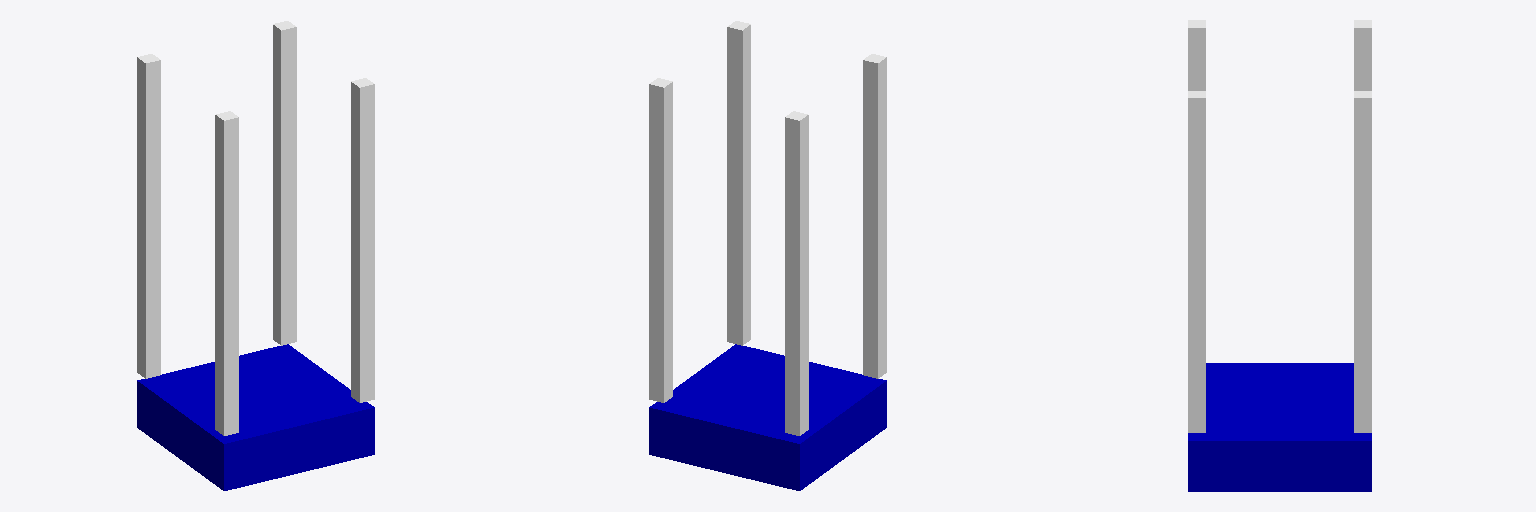
robot.urdf — physics:
<?xml version="1.0"?>
<robot name="physics">

  

  <link name="cart">
    <visual>
      <geometry>
        <box size="0.1 0.1 0.03"/>
      </geometry>
      <origin xyz="0 0 0"/>
      <material name="blue">
        <color rgba="0 0 .8 1"/>
      </material>
    </visual>
    <collision>
      <geometry>
          <box size="0.1 0.1 0.03"/>
      </geometry>
      <origin xyz="0 0 0"/>
    </collision>
    <inertial>
      <mass value="1000"/>
      <inertia ixx="1.0" ixy="0.0" ixz="0.0" iyy="1.0" iyz="0.0" izz="1.0"/>
    </inertial>
  </link>


  <link name="pole">
    <visual>
      <geometry>
        <box size="0.01 0.01 0.2"/>	
      </geometry>
      <origin rpy="0 0 0" xyz="0 0 0.1"/>
      <material name="white">
        <color rgba="1 1 1 1"/>
      </material>
    </visual>
    <inertial>
    <origin xyz="0 0 0.1"/>
      <mass value="1"/>
      <inertia ixx="1.0" ixy="0.0" ixz="0.0" iyy="1.0" iyz="0.0" izz="1.0"/>
    </inertial>
     <collision>
      <geometry>
        <box size="0.01 0.01 0.2"/>	
      </geometry>
      <origin rpy="0 0 0" xyz="0 0 0.1"/>
    </collision>
  </link>

  <link name="pole2">
    <visual>
      <geometry>
        <box size="0.01 0.01 0.2"/>	
      </geometry>
      <origin rpy="0 0 0" xyz="0 0 0.1"/>
      <material name="white">
        <color rgba="1 1 1 1"/>
      </material>
    </visual>
    <inertial>
    <origin xyz="0 0 0.1"/>
      <mass value="1"/>
      <inertia ixx="1.0" ixy="0.0" ixz="0.0" iyy="1.0" iyz="0.0" izz="1.0"/>
    </inertial>
     <collision>
      <geometry>
        <box size="0.01 0.01 0.2"/>	
      </geometry>
      <origin rpy="0 0 0" xyz="0 0 0.1"/>
    </collision>
  </link>


  <link name="pole3">
    <visual>
      <geometry>
        <box size="0.01 0.01 0.2"/>	
      </geometry>
      <origin rpy="0 0 0" xyz="0 0 0.1"/>
      <material name="white">
        <color rgba="1 1 1 1"/>
      </material>
    </visual>
    <inertial>
    <origin xyz="0 0 0.1"/>
      <mass value="1"/>
      <inertia ixx="1.0" ixy="0.0" ixz="0.0" iyy="1.0" iyz="0.0" izz="1.0"/>
    </inertial>
     <collision>
      <geometry>
        <box size="0.01 0.01 0.2"/>	
      </geometry>
      <origin rpy="0 0 0" xyz="0 0 0.1"/>
    </collision>
  </link>

  <link name="pole4">
    <visual>
      <geometry>
        <box size="0.01 0.01 0.2"/>	
      </geometry>
      <origin rpy="0 0 0" xyz="0 0 0.1"/>
      <material name="white">
        <color rgba="1 1 1 1"/>
      </material>
    </visual>
    <inertial>
    <origin xyz="0 0 0.1"/>
      <mass value="1"/>
      <inertia ixx="1.0" ixy="0.0" ixz="0.0" iyy="1.0" iyz="0.0" izz="1.0"/>
    </inertial>
     <collision>
      <geometry>
        <box size="0.01 0.01 0.2"/>	
      </geometry>
      <origin rpy="0 0 0" xyz="0 0 0.1"/>
    </collision>
  </link>



  <joint name="cart_to_pole" type="revolute">
    <axis xyz="0 1 0"/>
    <origin xyz="0.045 0.045 0.02"/>
    <parent link="cart"/>
    <child link="pole"/>
    <limit upper="0.2" lower="-0.1757" velocity="2.0"/>
  </joint>

  <joint name="cart_to_pole2" type="revolute">
    <axis xyz="0 1 0"/>
    <origin xyz="-0.045 -0.045 0.02"/>
    <parent link="cart"/>
    <child link="pole2"/>
    <limit upper="0.2" lower="-0.1757" velocity="2.0"/>
  </joint>

  <joint name="cart_to_pole3" type="revolute">
    <axis xyz="0 1 0"/>
    <origin xyz="0.045 -0.045 0.02"/>
    <parent link="cart"/>
    <child link="pole3"/>
    <limit upper="0.2" lower="-0.1757" velocity="2.0"/>
  </joint>

  <joint name="cart_to_pole4" type="revolute">
    <axis xyz="0 1 0"/>
    <origin xyz="-0.045 0.045 0.02"/>
    <parent link="cart"/>
    <child link="pole4"/>
    <limit upper="0.2" lower="-0.1757" velocity="2.0"/>
  </joint>
  
</robot>

--- What the picture shows (computed from the rendered views, not written in the file) ---
Views: 3 orthographic renders of the robot side by side, from view 1: azimuth 30°, elevation 25°; view 2: azimuth 150°, elevation 25°; view 3: azimuth 270°, elevation 25°.
Model physics with 5 links and 4 joints (4 revolute), rooted at cart, posed every joint at zero.
Links seen in each view (by area): view 1: cart, pole3, pole4, pole2, pole; view 2: cart, pole, pole2, pole4, pole3; view 3: cart, pole, pole3, pole2, pole4.
Link boxes in pixels (x1=…): cart: x1=137, y1=344, x2=374, y2=490; pole3: x1=351, y1=78, x2=374, y2=402; pole4: x1=137, y1=54, x2=160, y2=378; pole2: x1=215, y1=111, x2=238, y2=435; pole: x1=273, y1=21, x2=296, y2=345; cart: x1=649, y1=344, x2=886, y2=490; pole: x1=649, y1=78, x2=672, y2=402; pole2: x1=863, y1=54, x2=886, y2=378; pole4: x1=785, y1=111, x2=808, y2=435; pole3: x1=727, y1=21, x2=750, y2=345; cart: x1=1188, y1=363, x2=1371, y2=491; pole: x1=1354, y1=91, x2=1371, y2=432; pole3: x1=1188, y1=91, x2=1205, y2=432; pole2: x1=1188, y1=20, x2=1205, y2=90; pole4: x1=1354, y1=20, x2=1371, y2=90.
Size in the robot's own frame: 0.1 by 0.1 by 0.235 metres.
Geometry: primitives only (box / cylinder / sphere), no mesh files.